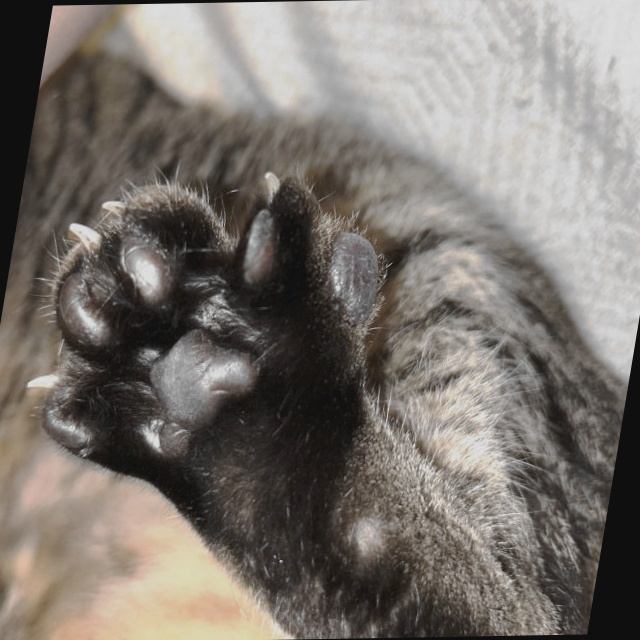lump_and_bump: (312, 222, 390, 326)
